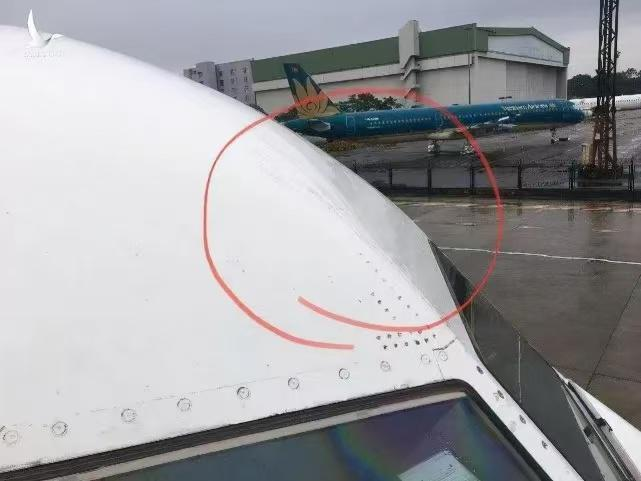Dents or Deformation: (306, 157, 454, 308)
